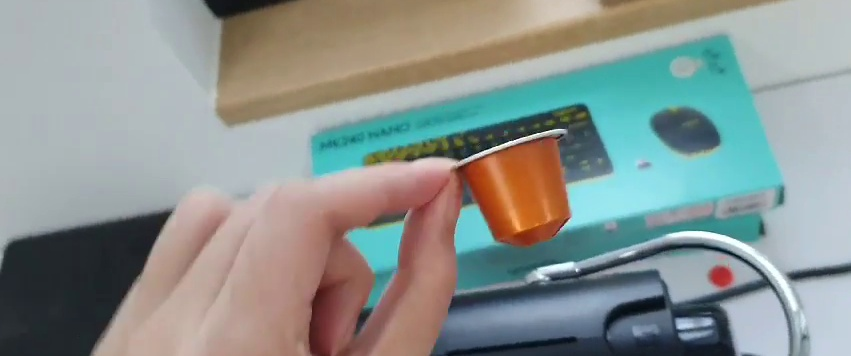capsule_5: (447, 126, 576, 250)
